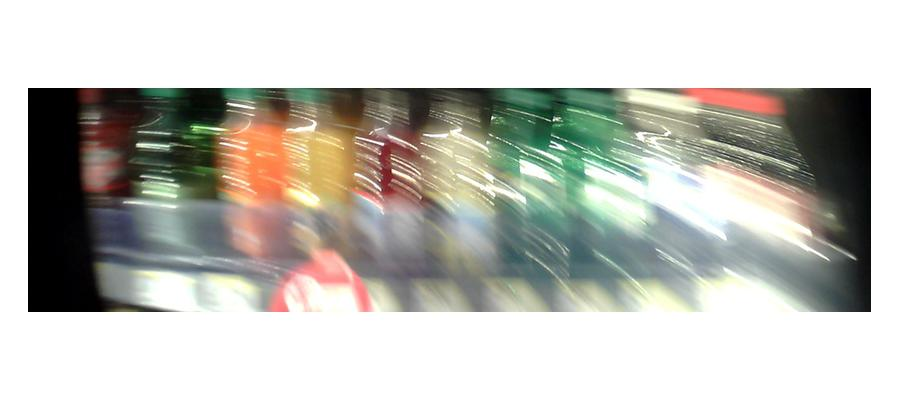bottle: (492, 88, 573, 295), (216, 92, 302, 263), (357, 135, 428, 269)
